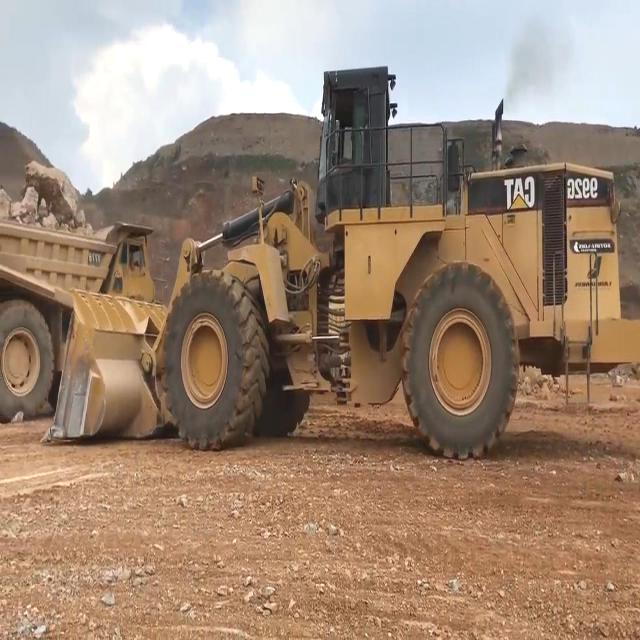machinery: (40, 53, 638, 460), (0, 212, 156, 440)
